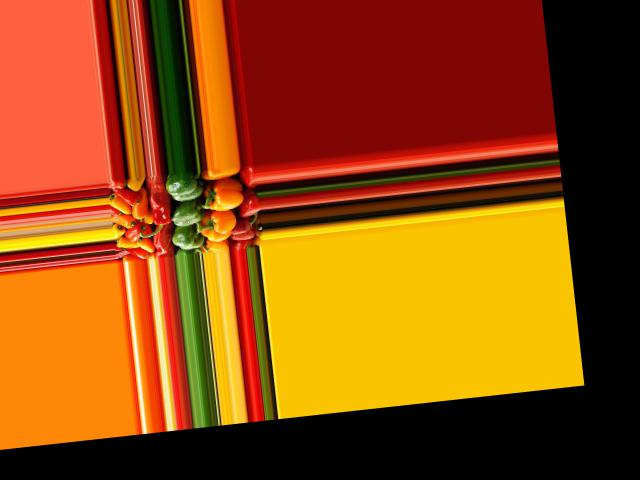bell_pepper: (111, 183, 141, 208)
